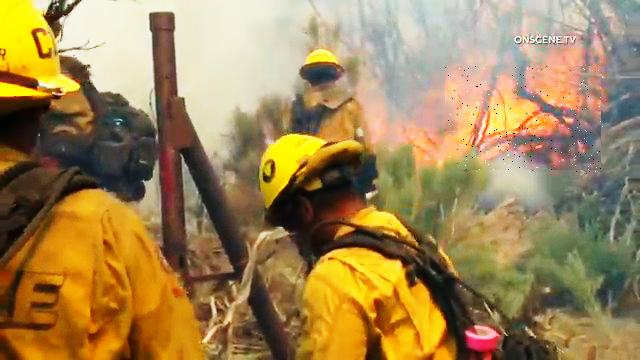fire: (446, 67, 604, 173)
